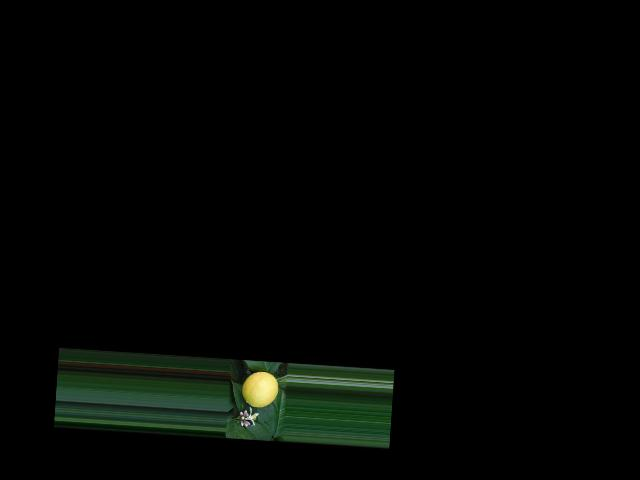lemon: (241, 367, 281, 409)
